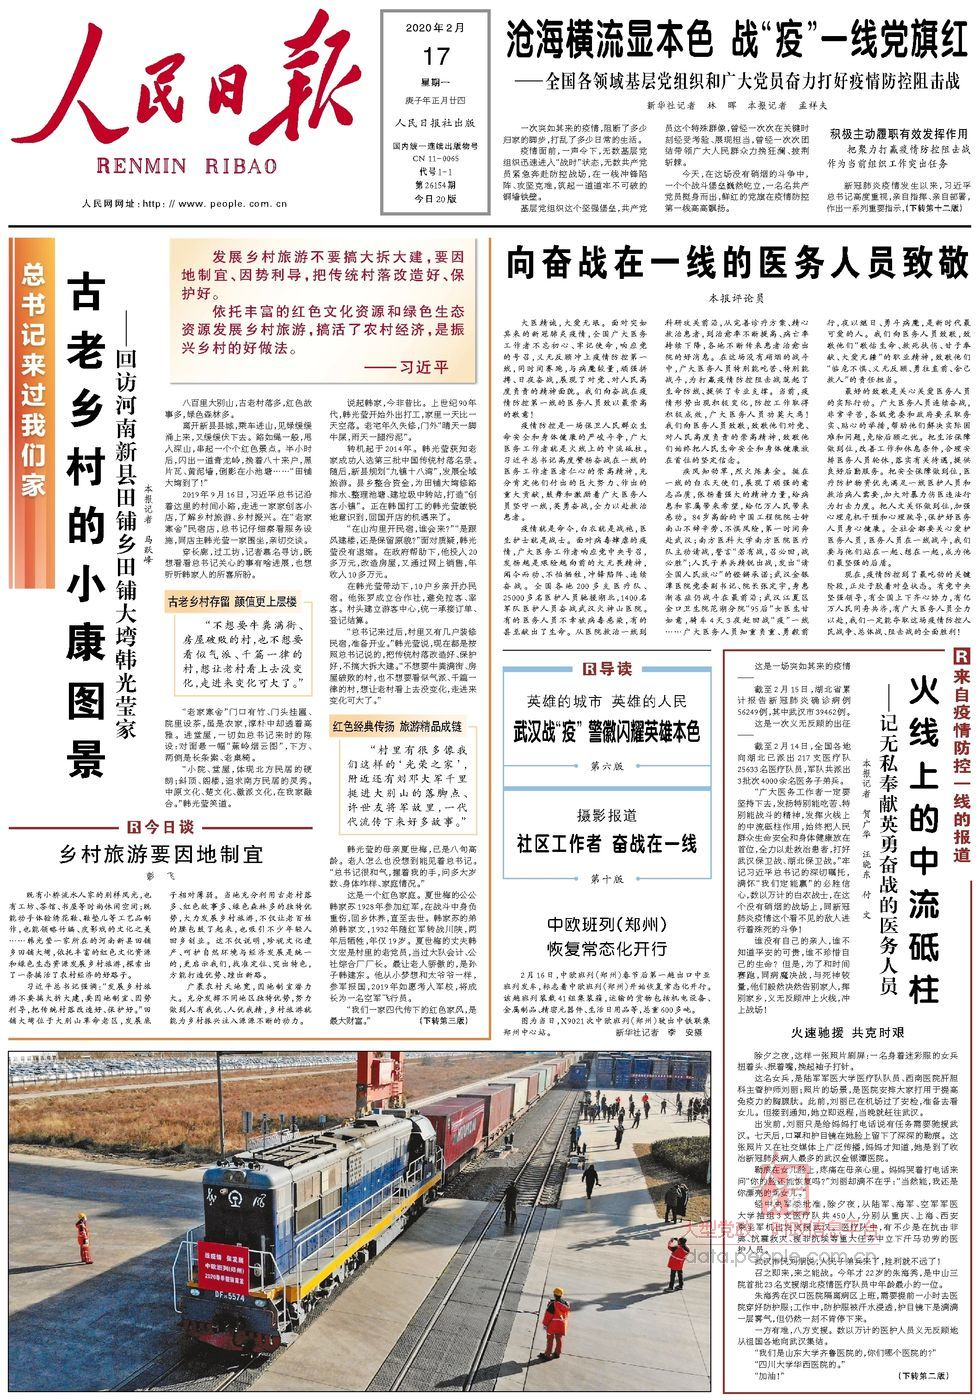pic: (5, 1045, 715, 1397)
